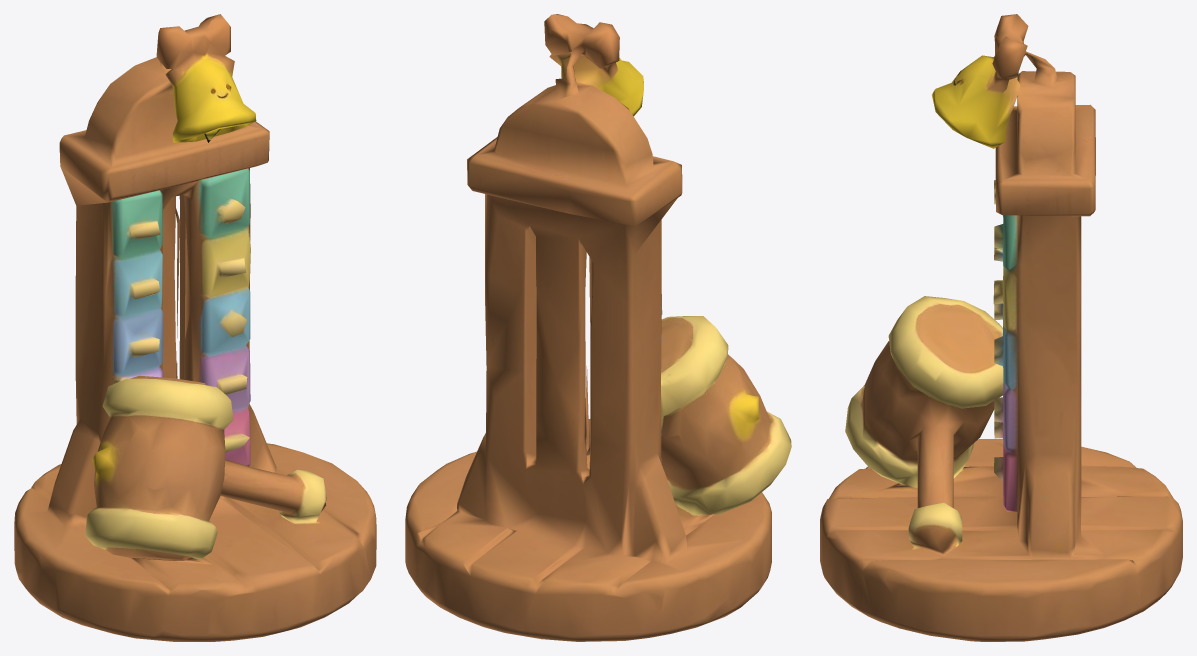
The model's file is force-metre.glb.
3 views of the same model, side by side, from view 1: azimuth 30°, elevation 25°; view 2: azimuth 150°, elevation 25°; view 3: azimuth 270°, elevation 25° (orthographic).
Parts seen in each view (by area): view 1: tripo_node_70669db0-97e5-4050-8a21-b7047d1e4145; view 2: tripo_node_70669db0-97e5-4050-8a21-b7047d1e4145; view 3: tripo_node_70669db0-97e5-4050-8a21-b7047d1e4145.
Part boxes in pixels (<box>): tripo_node_70669db0-97e5-4050-8a21-b7047d1e4145: <box>14,14,376,641</box>; tripo_node_70669db0-97e5-4050-8a21-b7047d1e4145: <box>405,14,791,641</box>; tripo_node_70669db0-97e5-4050-8a21-b7047d1e4145: <box>820,14,1182,641</box>.
Bounding box in the file's own units: 0.6066 × 1 × 0.6026.
1 material, 1 textured.
